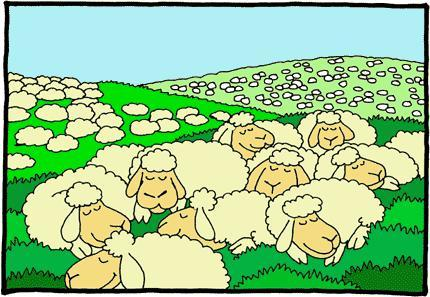sheep: (57, 233, 239, 293), (260, 178, 387, 258), (127, 142, 244, 212), (19, 168, 128, 243), (154, 188, 277, 247), (313, 142, 418, 188), (285, 108, 379, 148)
